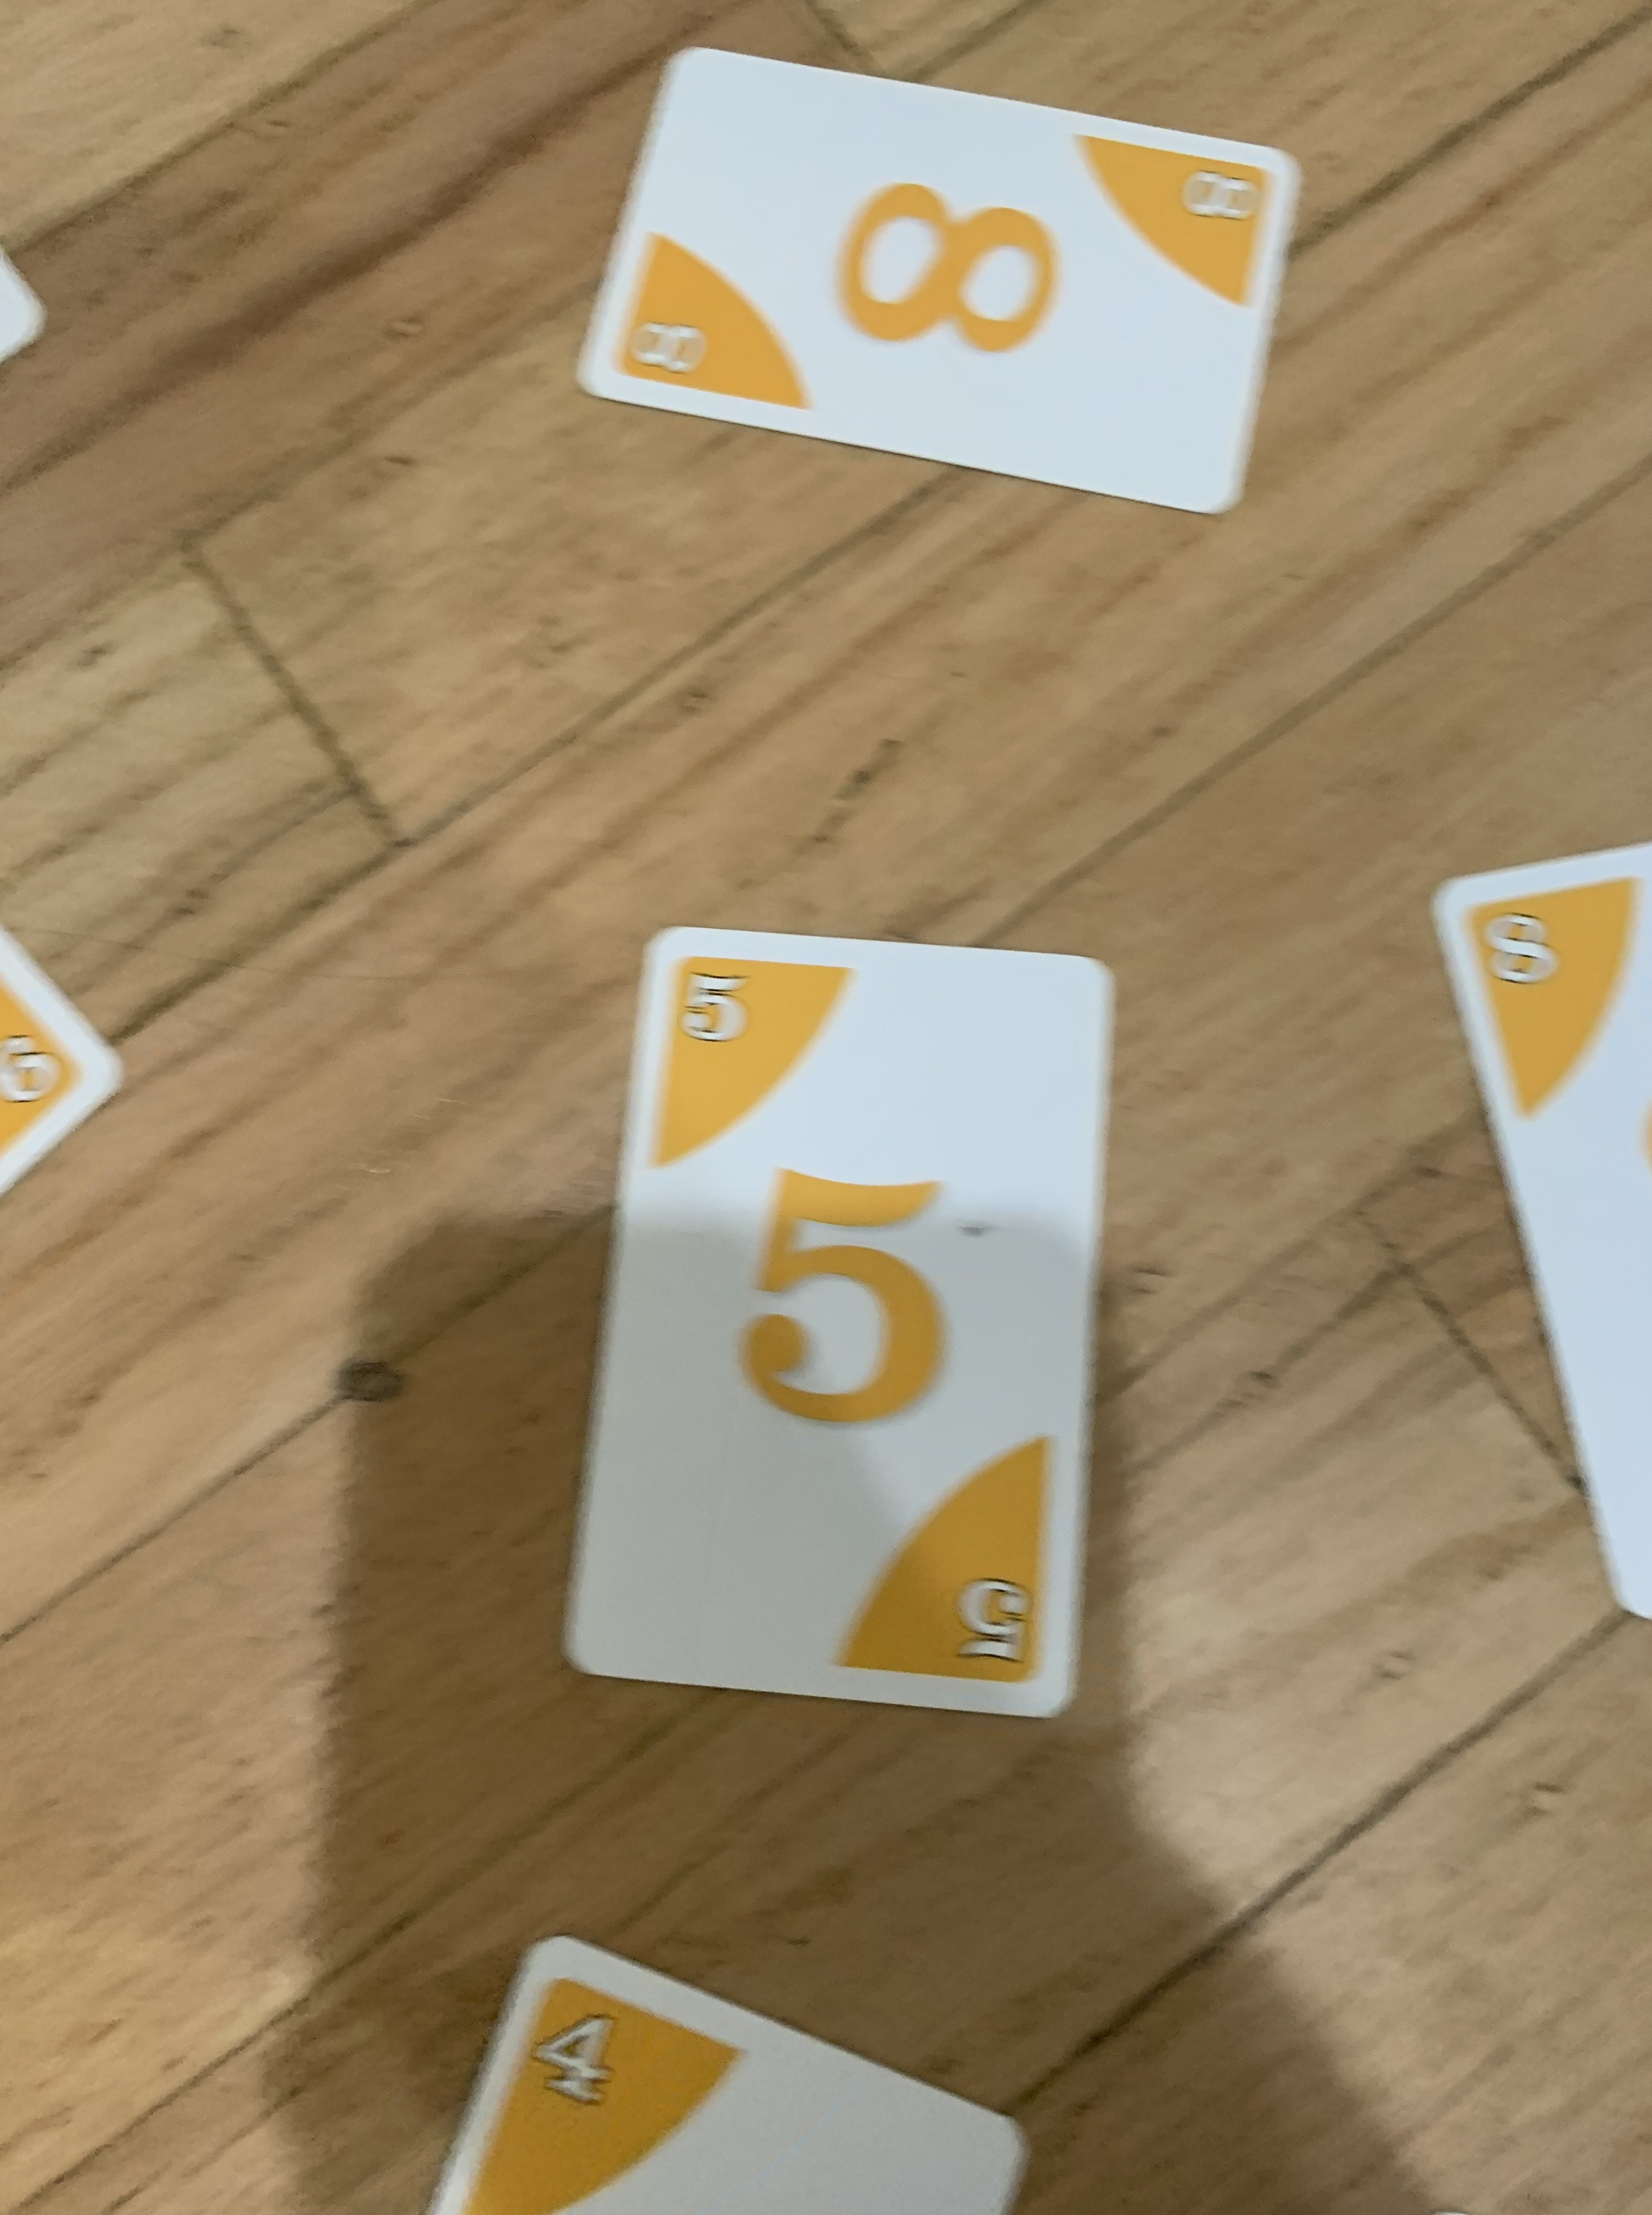eight: (573, 38, 1310, 540)
five: (562, 915, 1121, 1736)
